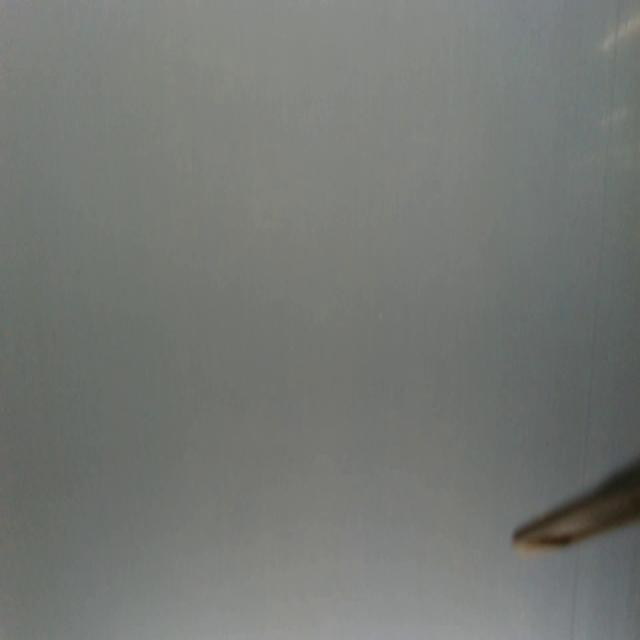crease: (580, 1, 623, 472)
